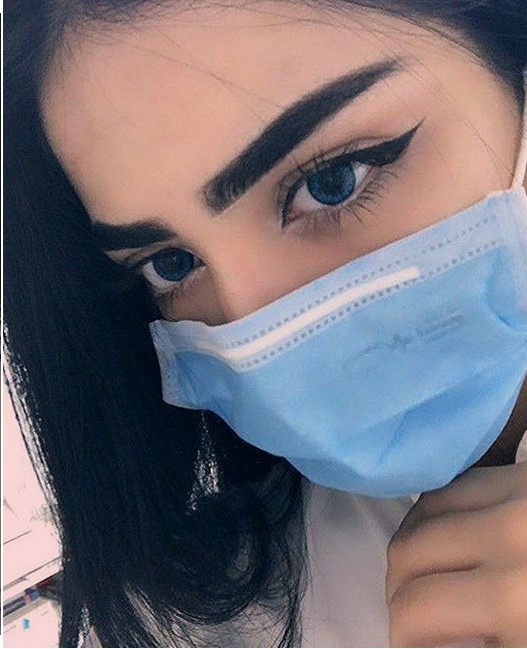face_with_mask: (32, 0, 525, 504)
